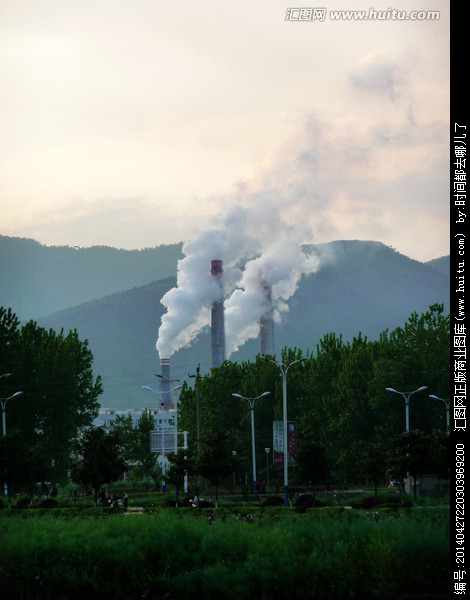dust: (200, 227, 312, 362), (152, 214, 215, 368)
